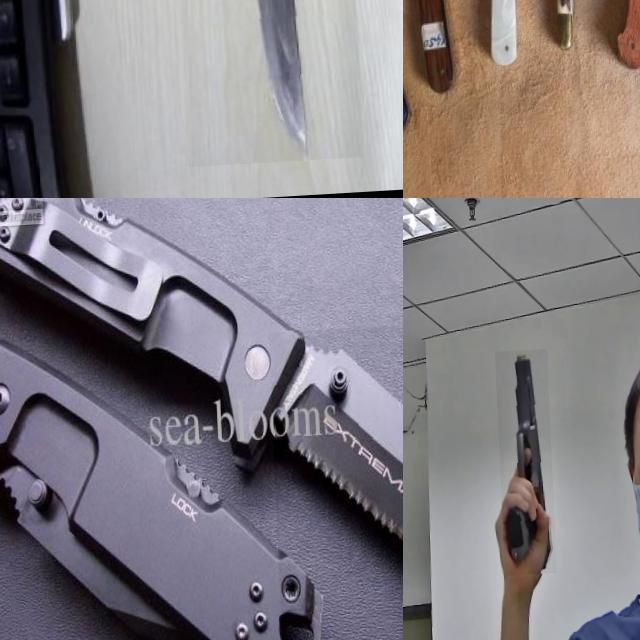-: (266, 323, 403, 640), (162, 0, 358, 198), (474, 0, 518, 106), (403, 0, 441, 117), (403, 0, 445, 103), (540, 0, 581, 96)
gun-knife-thesis - v11 Yolov5 augmented: (492, 352, 552, 580)
